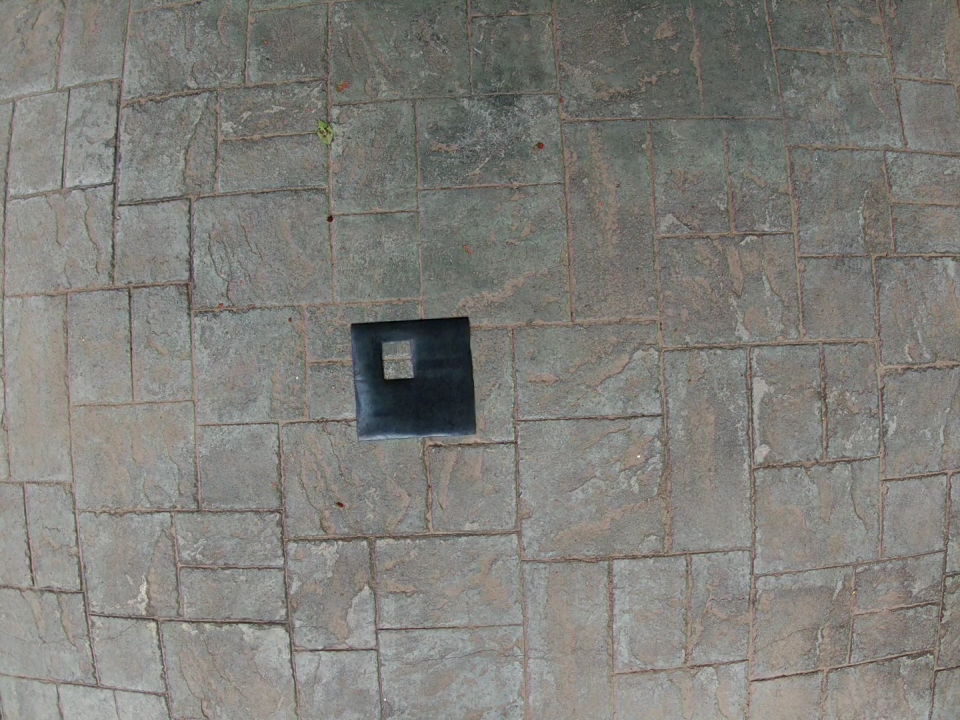qrcode: (351, 316, 476, 437)
